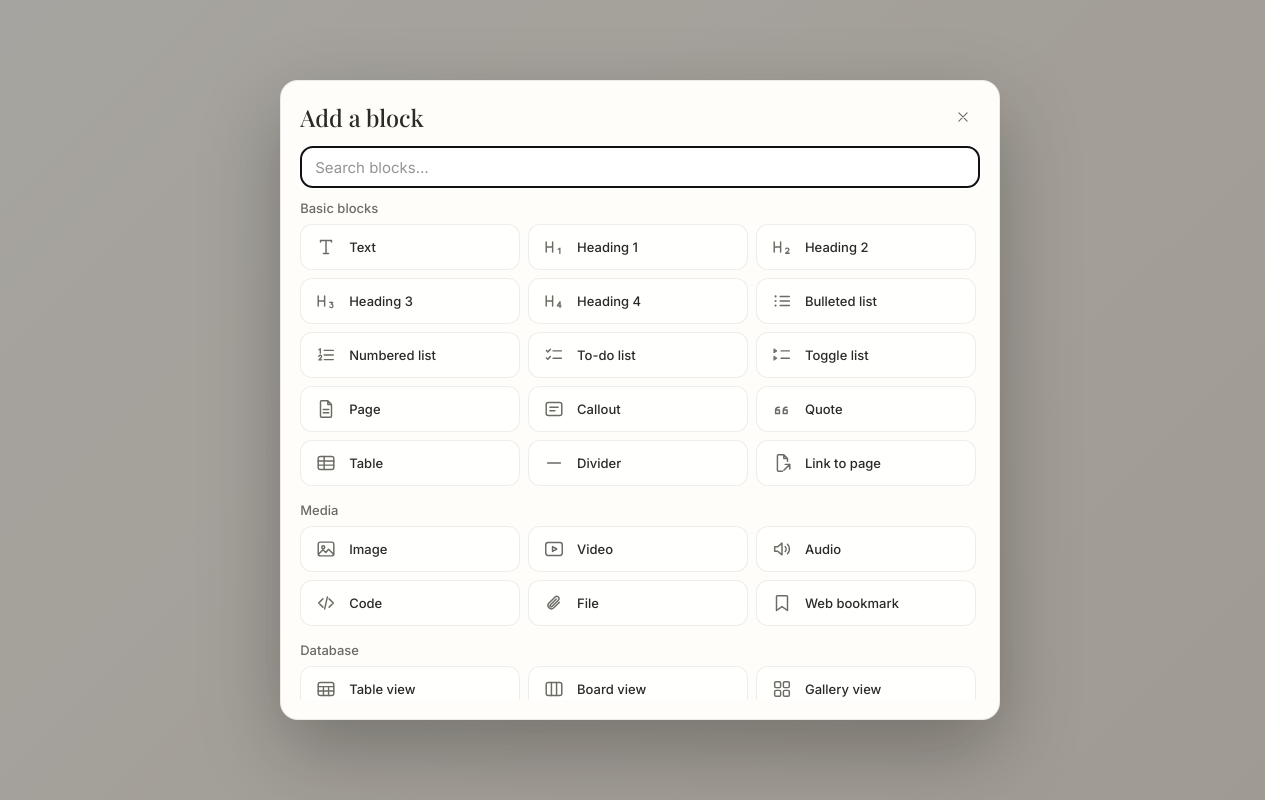
Scenario: BlockBrowser › says so when the search matches nothing
Step 1. Type "zzzzqqqq" into the search field → (640, 167), box [300,146,980,188]
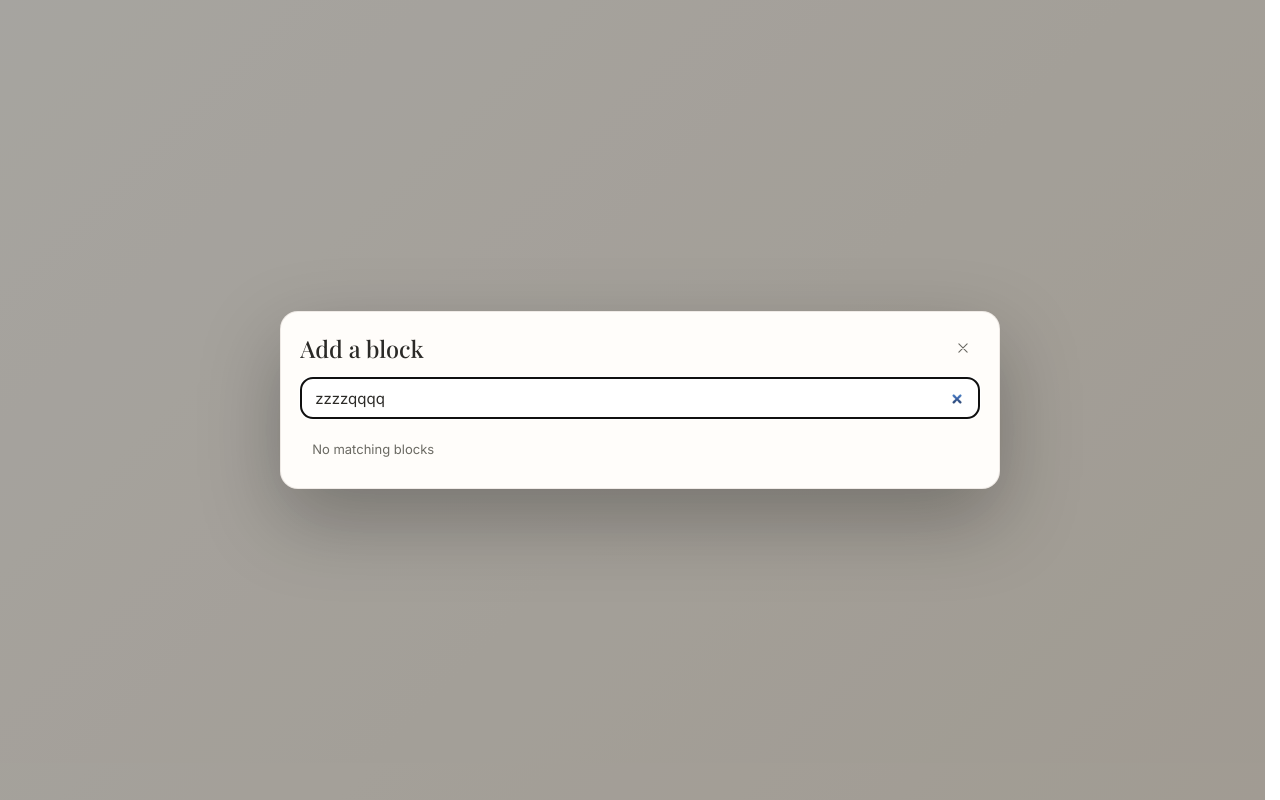
Expected: the text "No matching blocks" is shown, [312,441,434,457]
